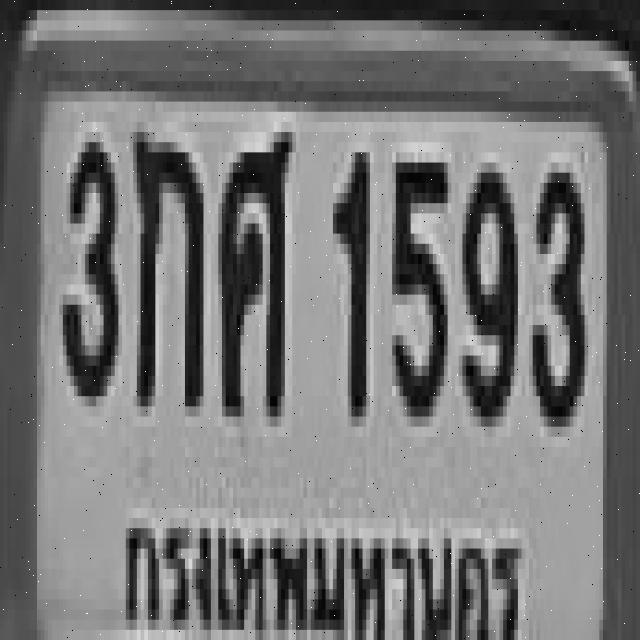1: (329, 142, 366, 406)
10GorGai: (130, 127, 200, 401)
3: (59, 132, 115, 396), (529, 162, 581, 416)
47SorSala: (218, 122, 288, 406)
5: (388, 152, 444, 406)
9: (458, 152, 514, 416)
Bangkok: (113, 494, 528, 640)
